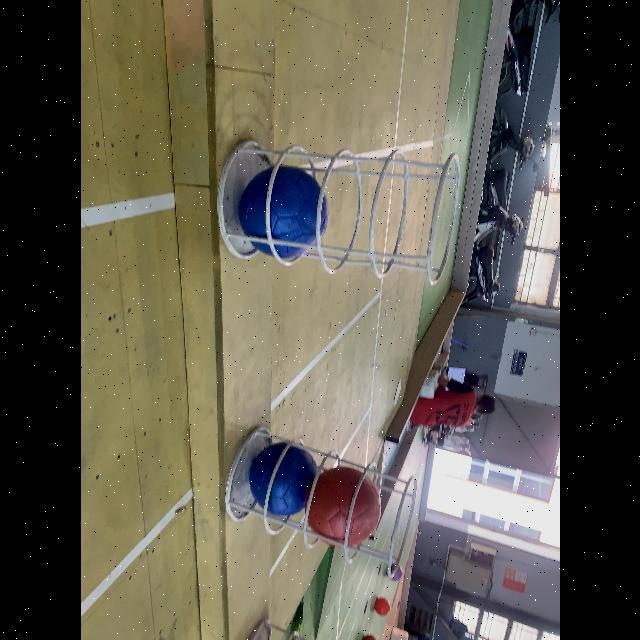B: (238, 164, 326, 258), (242, 434, 316, 518)
R: (306, 466, 382, 542)
